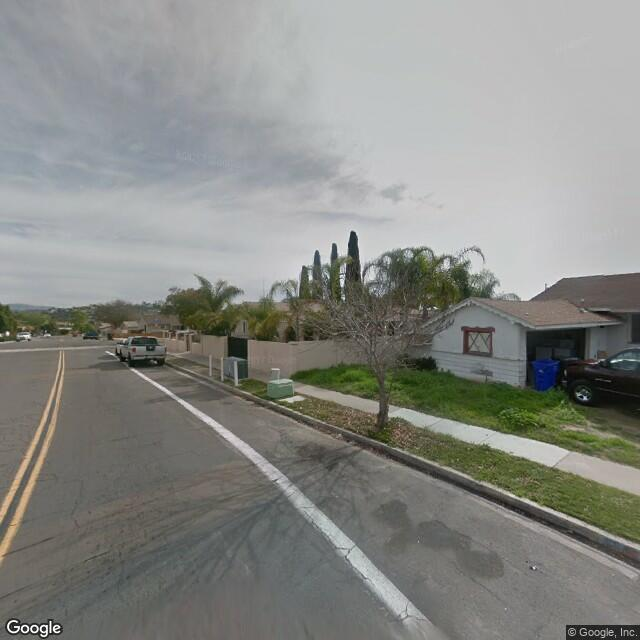litter: (523, 561, 540, 574)
